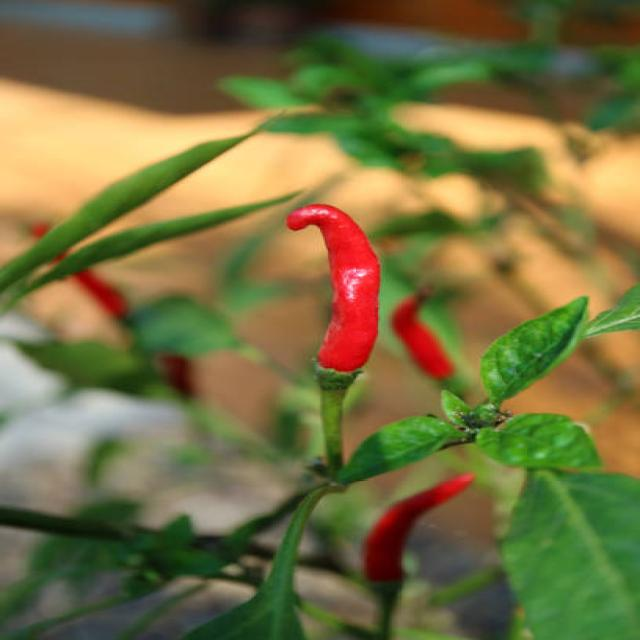Ripe: (287, 204, 376, 371)
